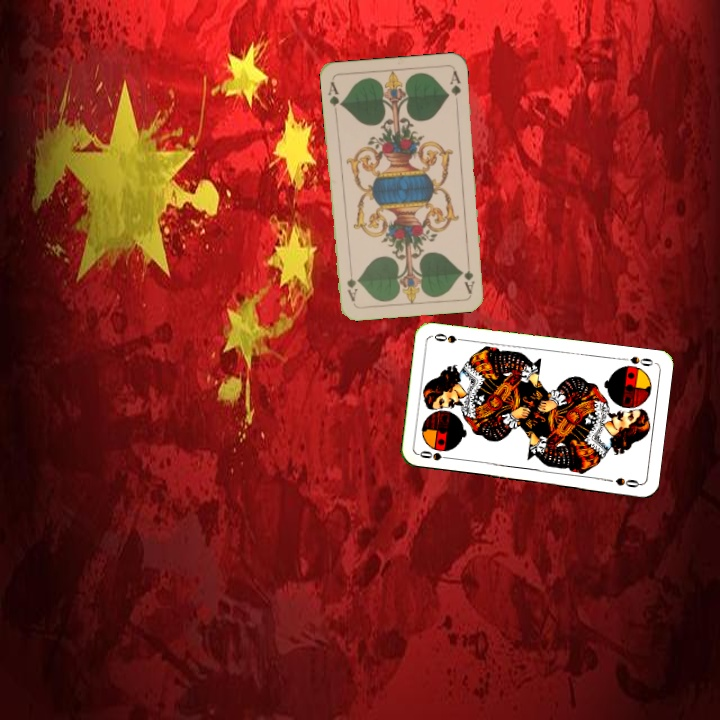GA: (324, 77, 345, 117), (460, 255, 477, 296)
SO: (617, 352, 657, 369), (415, 447, 456, 463)
